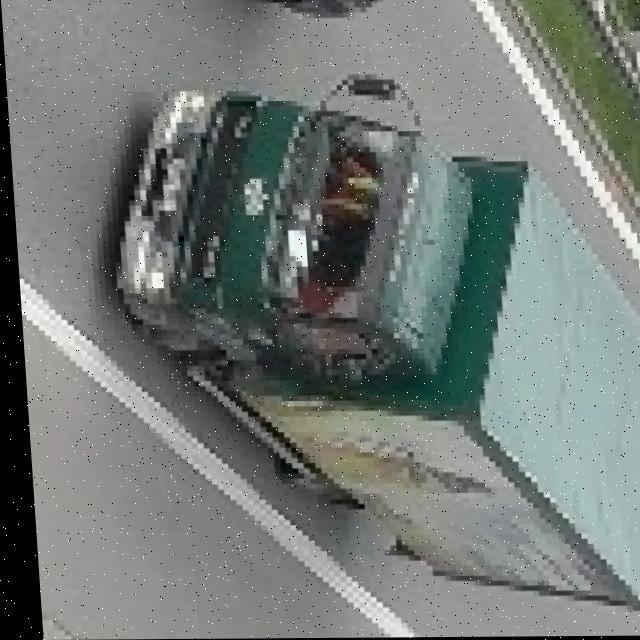truck: (95, 63, 640, 610)
